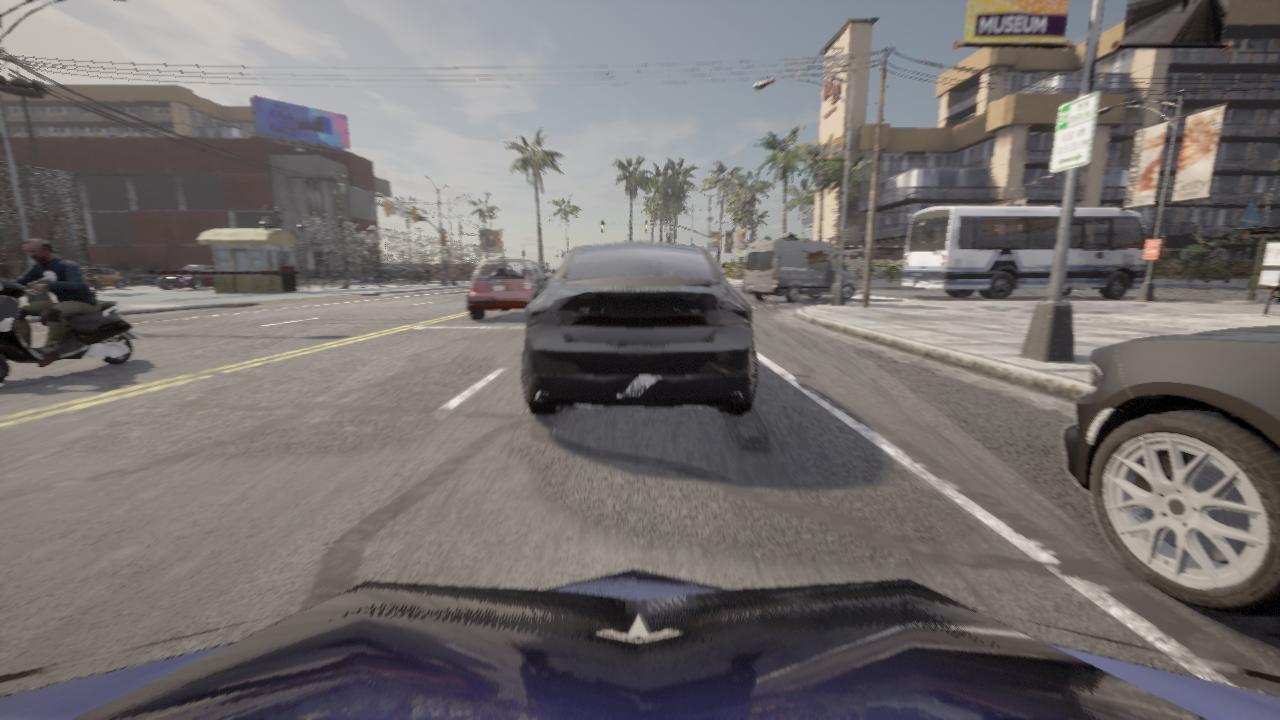cyclist: (0, 569, 1279, 719), (1063, 326, 1279, 614), (522, 241, 757, 414), (903, 206, 1167, 299), (0, 271, 140, 384), (742, 239, 857, 302), (467, 258, 552, 319), (158, 264, 215, 289), (374, 265, 431, 281), (83, 267, 126, 288), (119, 269, 160, 284), (82, 265, 125, 271), (159, 275, 161, 277)
